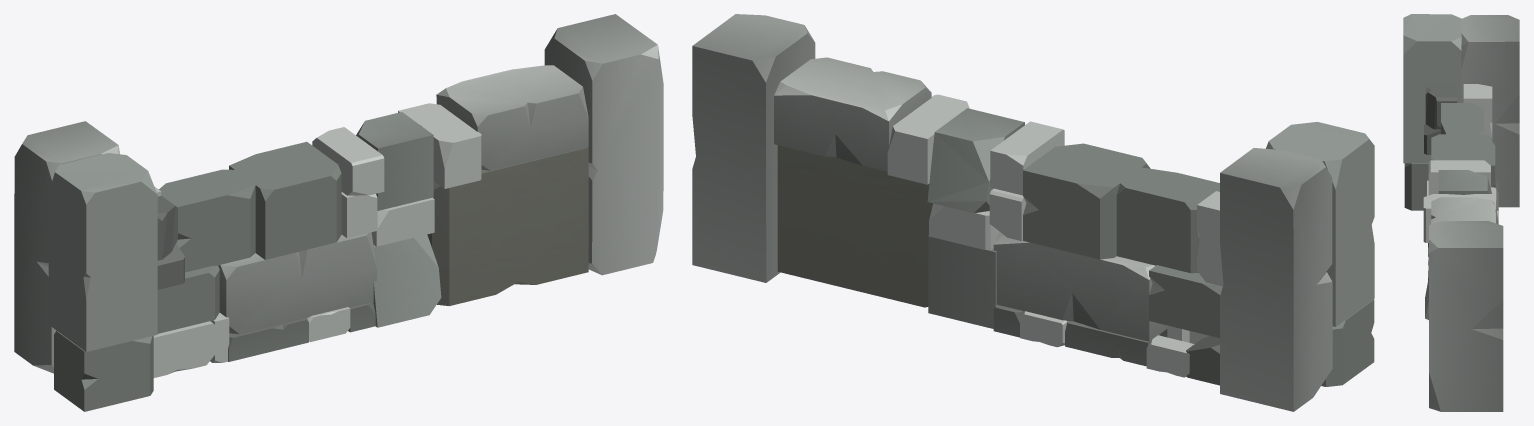
Rendered from ZLP_Build_D_38.FBX.
3 views of the same model, side by side, from view 1: azimuth 30°, elevation 25°; view 2: azimuth 150°, elevation 25°; view 3: azimuth 270°, elevation 25° (orthographic). The views are drawn at different scales.
Visible parts, largest first — view 1: ZLP_Build_D_38; view 2: ZLP_Build_D_38; view 3: ZLP_Build_D_38.
Part boxes in pixels (x1=…): ZLP_Build_D_38: x1=14, y1=14, x2=663, y2=411; ZLP_Build_D_38: x1=692, y1=14, x2=1374, y2=411; ZLP_Build_D_38: x1=1403, y1=14, x2=1519, y2=411.
Bounding box in the file's own units: 350 × 126 × 76.44.
